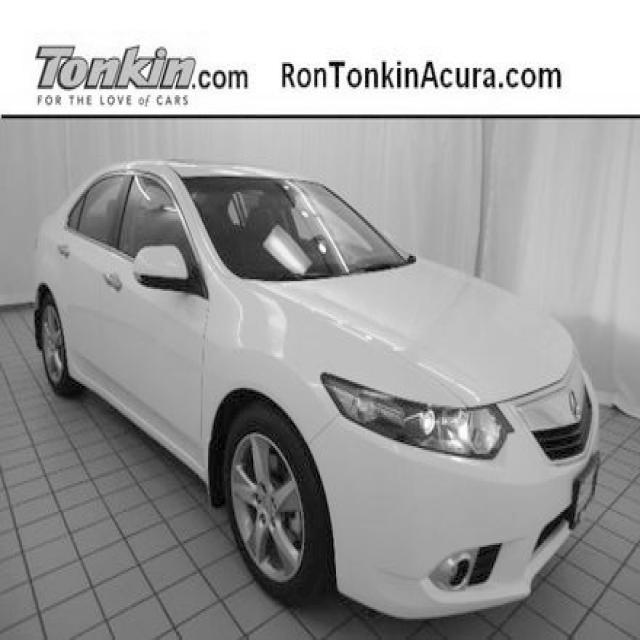car: (32, 157, 601, 621)
